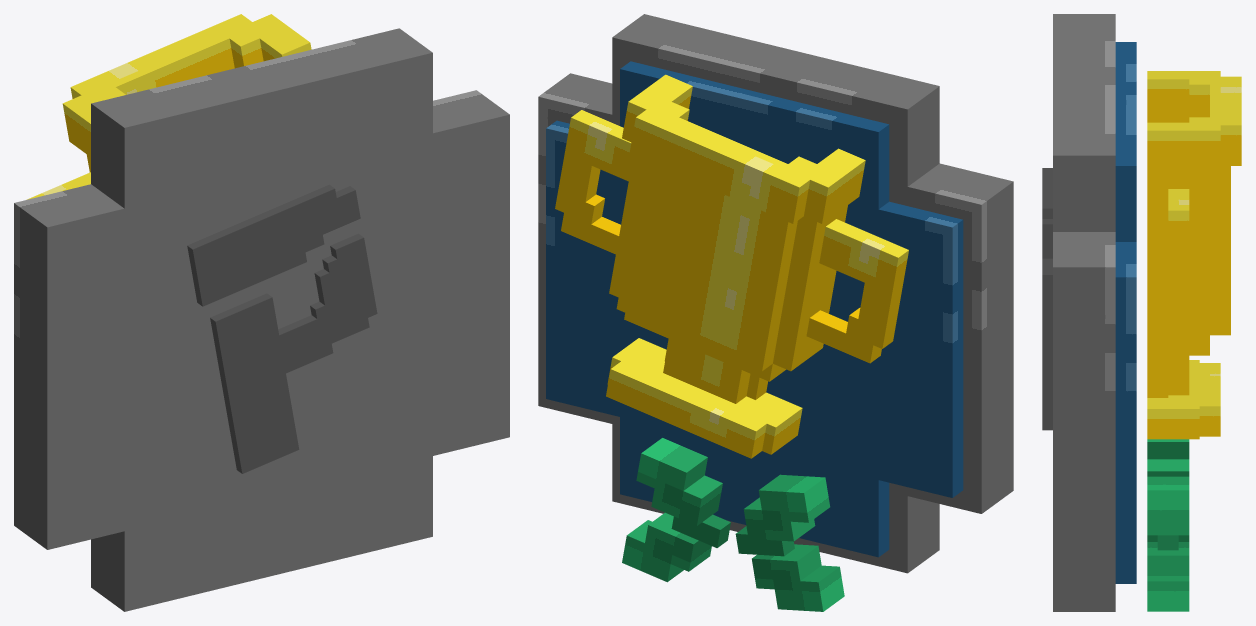
The model's file is achievement_champion.gltf.
3 views of the same model, side by side, from view 1: azimuth 30°, elevation 25°; view 2: azimuth 150°, elevation 25°; view 3: azimuth 270°, elevation 25° (orthographic). The views are drawn at different scales.
Parts seen in each view (by area): view 1: Main1-Local, Main2-Local, BackP-Local, Icon-Local; view 2: Icon-Local, Main2-Local, Main1-Local, LaurelsR1-Local, LaurelsL1-Local; view 3: Icon-Local, Main2-Local, Main1-Local, LaurelsR1-Local, BackP-Local, LaurelsL1-Local.
Boxes of the visible parts, x1,y1,x2,y2 form: Main1-Local: (91,28,432,611); Main2-Local: (14,90,509,549); BackP-Local: (187,184,377,473); Icon-Local: (26,14,311,199); Icon-Local: (555,74,908,458); Main2-Local: (538,73,1013,513); Main1-Local: (612,14,939,573); LaurelsR1-Local: (622,438,730,582); LaurelsL1-Local: (735,474,844,611); Icon-Local: (1147,71,1241,439); Main2-Local: (1053,232,1136,571); Main1-Local: (1053,14,1136,611); LaurelsR1-Local: (1147,476,1189,611); BackP-Local: (1042,168,1052,430); LaurelsL1-Local: (1147,439,1189,541).
Bounding box in the file's own units: 48 × 51.21 × 19.
6 materials, 6 textured.
